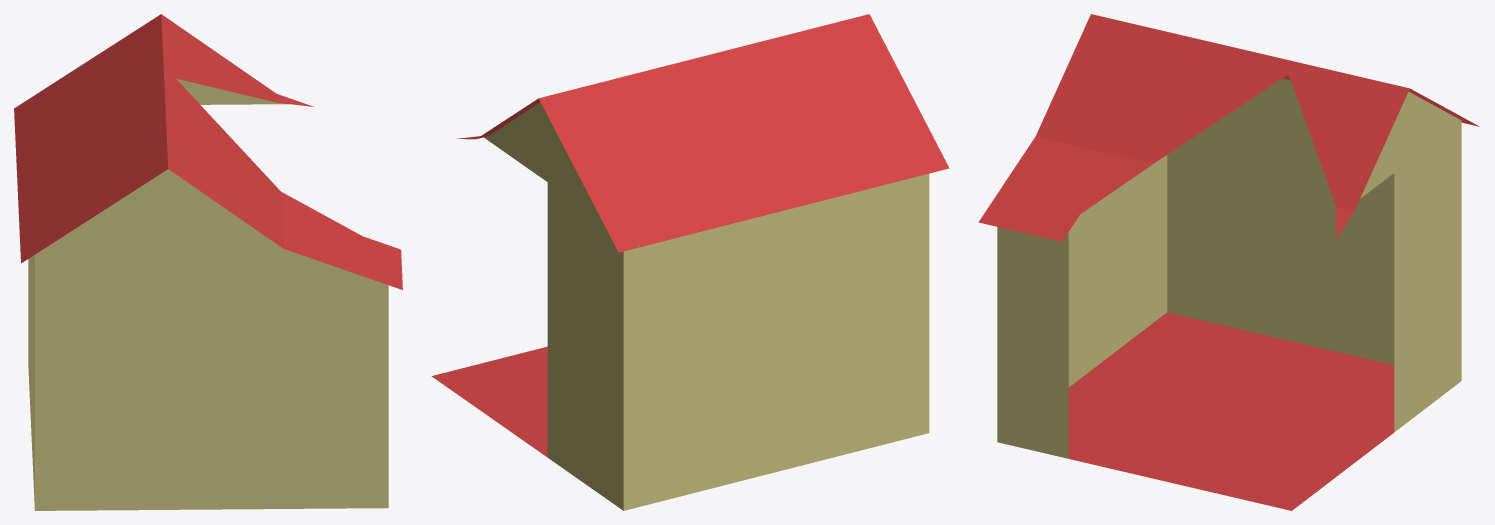
The picture shows the model from 3 angles, left to right: view 1: azimuth 30°, elevation 25°; view 2: azimuth 150°, elevation 25°; view 3: azimuth 270°, elevation 25°; orthographic projection. The views are drawn at different scales.
Size of the model in its own units: 17.46 by 17.93 by 13.56.
